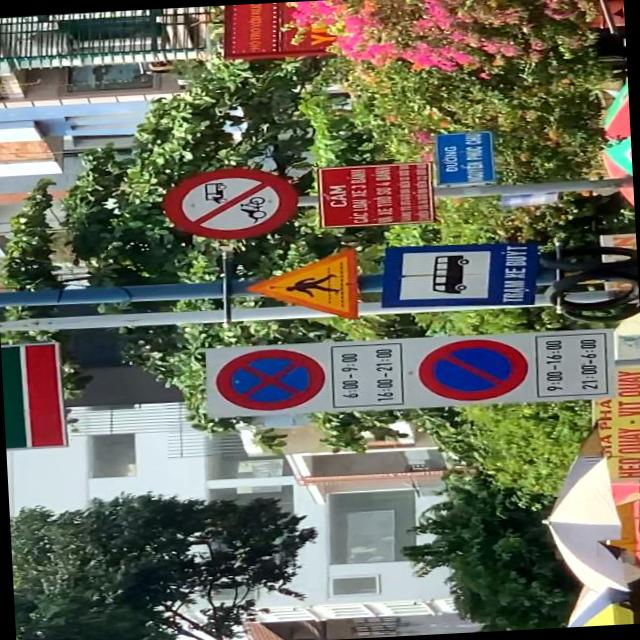P-130: (213, 345, 327, 412)
P-131a: (417, 338, 529, 402)
W-224: (242, 250, 358, 326)
